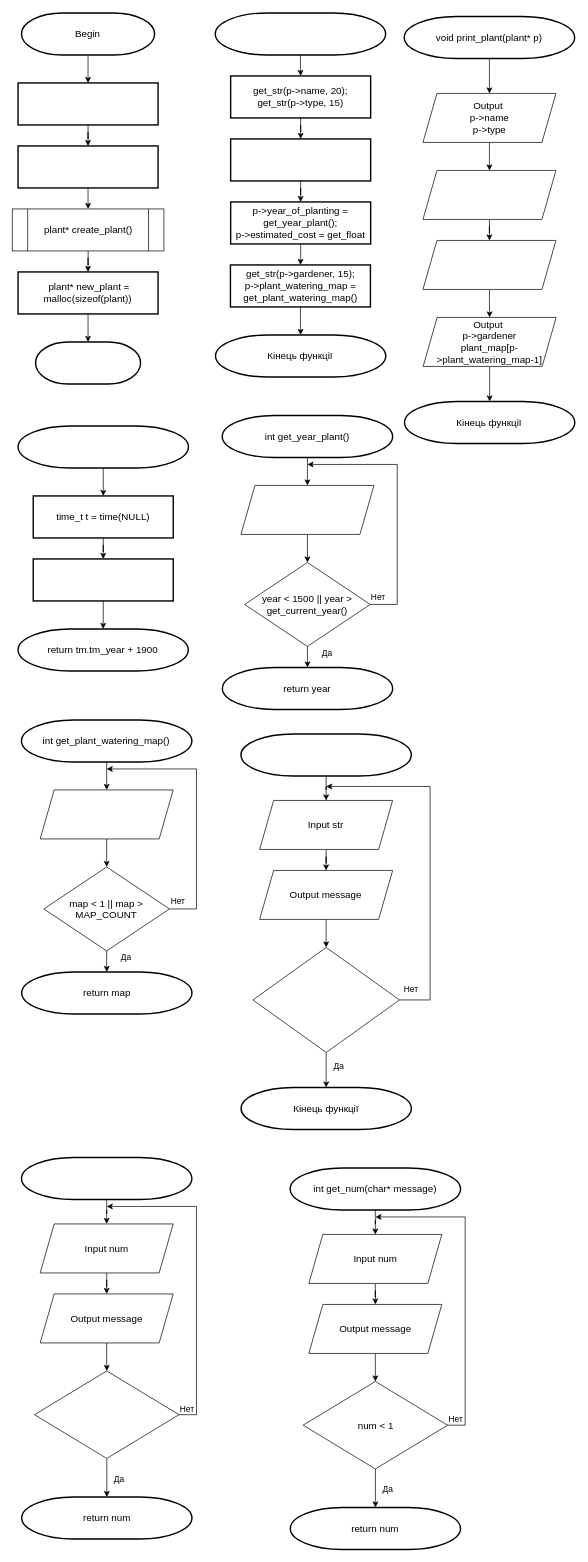
This 588x1562 diagram has some shape labels left out. The shapes that lost their labels are listed below. From the top down, each one's centre as x and y in pixels, then its label:
the point at 300,33: void fill_plant(plant* p)
the point at 87,103: MAP_COUNT 3
the point at 87,166: plant_map[MAP_COUNT][10] = {"Morning", "Afternoon", "Evening"}
the point at 300,159: p->inventory_number = get_num; p->planting_site = get_num
the point at 489,194: Output p->inventory_number p->planting_site
the point at 489,264: Output p->year_of_planting p->estimated_cost
the point at 88,362: return new_plant;
the point at 103,446: int get_current_year()
the point at 307,509: Input year
the point at 103,579: tm tm = *localtime(&t)
the point at 326,754: void get_str(char* str, unsigned size, char* message)
the point at 106,814: Input map
the point at 325,999: strpbrk(str, "0123456789") !=NULL || strlen(str) < 2 || strlen(str) > size
the point at 106,1178: float get_float(char* message)
the point at 106,1414: num < 0
